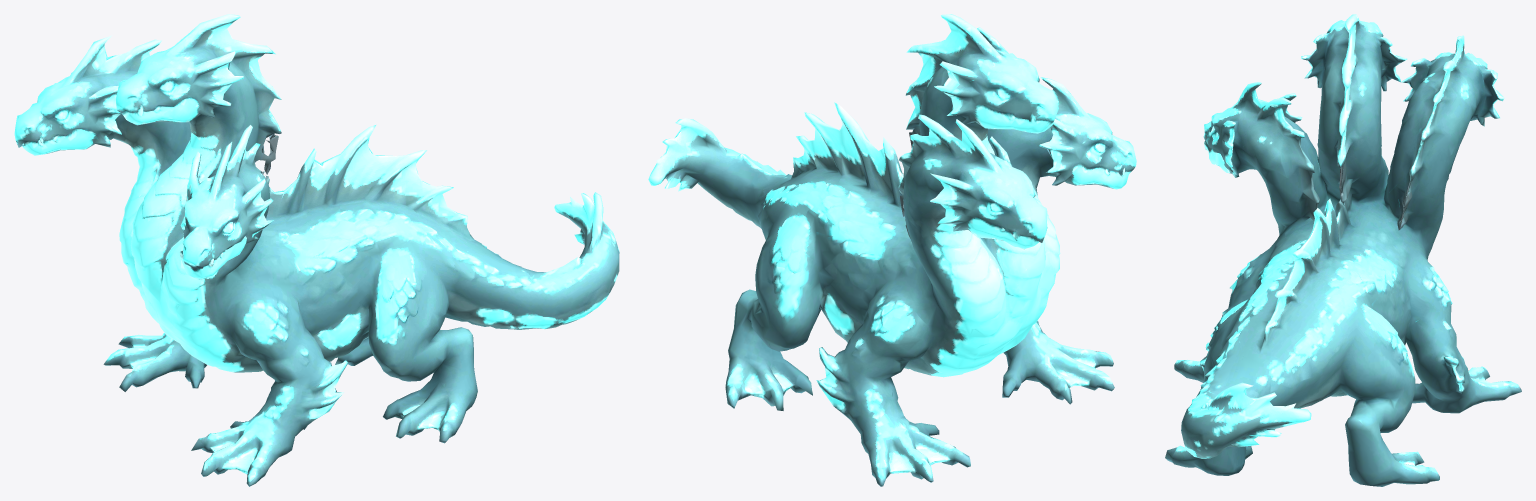
Rendered from source.glb.
3 renders of one model, left to right at view 1: azimuth 30°, elevation 25°; view 2: azimuth 150°, elevation 25°; view 3: azimuth 270°, elevation 25°, orthographic. The views are drawn at different scales.
Parts seen in each view (by area): view 1: tripo_node_fa5c3168-9999-495d-80d6-96977d041f17; view 2: tripo_node_fa5c3168-9999-495d-80d6-96977d041f17; view 3: tripo_node_fa5c3168-9999-495d-80d6-96977d041f17.
Boxes of the visible parts, x1=… form: tripo_node_fa5c3168-9999-495d-80d6-96977d041f17: x1=14, y1=14, x2=619, y2=486; tripo_node_fa5c3168-9999-495d-80d6-96977d041f17: x1=648, y1=14, x2=1136, y2=486; tripo_node_fa5c3168-9999-495d-80d6-96977d041f17: x1=1165, y1=14, x2=1521, y2=486.
Bounding box in the file's own units: 0.9341 × 0.7341 × 0.6185.
Materials: 1 (1 with a texture image).
